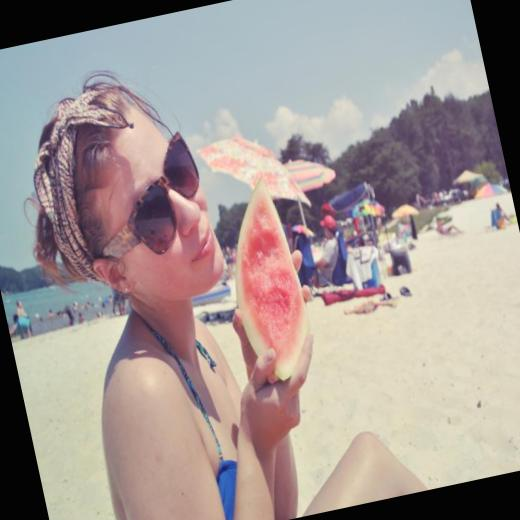Cherry: (210, 170, 321, 385)
